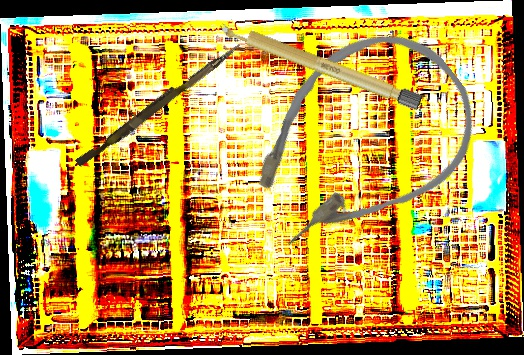Cannula: (212, 1, 503, 281)
Pusher: (74, 36, 243, 172)
Scalpel Handle: (217, 18, 423, 111)
